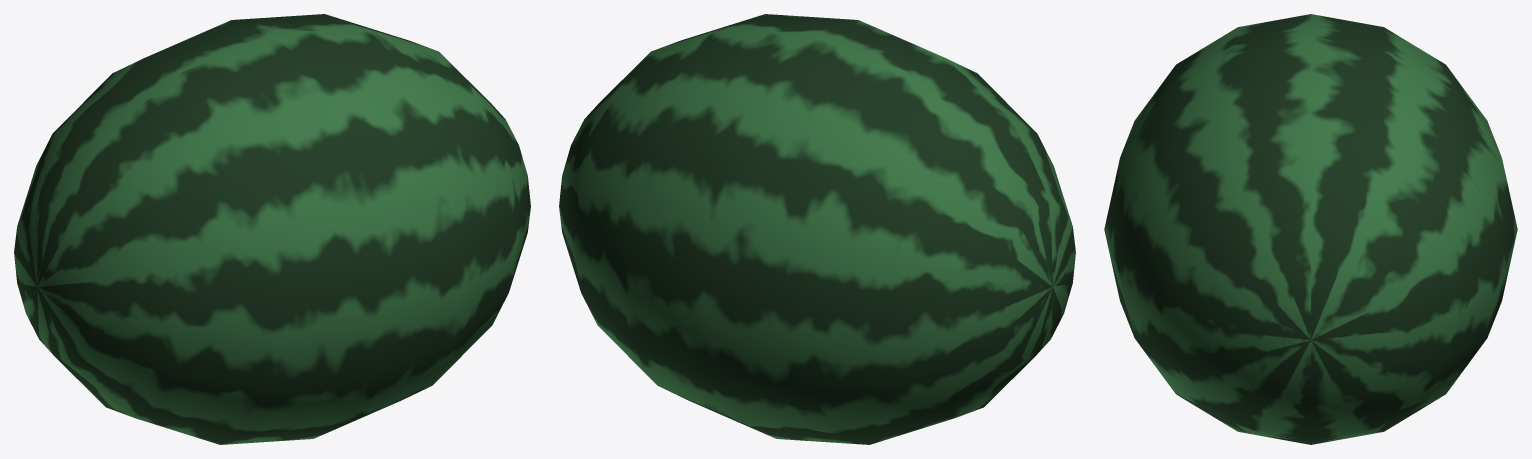
Rendered from watermelon.glb.
3 views of the same model, side by side, from view 1: azimuth 30°, elevation 25°; view 2: azimuth 150°, elevation 25°; view 3: azimuth 270°, elevation 25° (orthographic). The views are drawn at different scales.
Visible parts, largest first — view 1: Object_16; view 2: Object_16; view 3: Object_16.
Part boxes in pixels (x1,y1,x2,y2): Object_16: (14,14,530,444); Object_16: (559,14,1075,444); Object_16: (1104,14,1517,444).
Bounding box in the file's own units: 4.34 × 3.42 × 3.42.
1 material, 1 textured.
